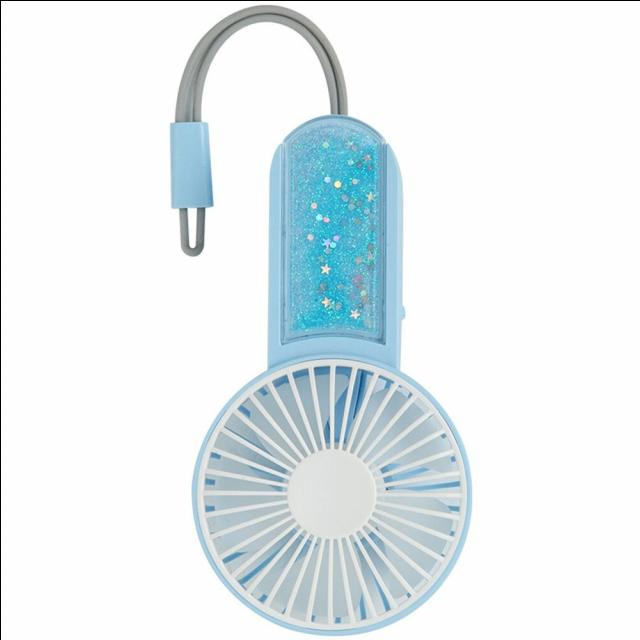fan: (161, 5, 484, 637)
